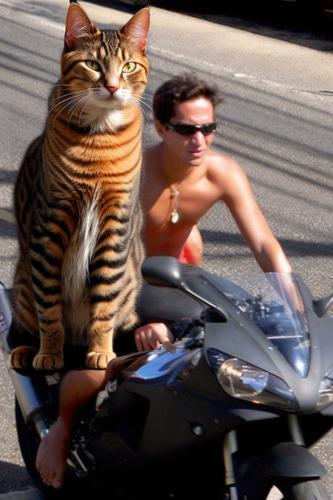cat: (11, 1, 149, 370)
motorbike: (1, 236, 333, 500)
person: (34, 75, 305, 485)
person/foot: (35, 419, 72, 487)
person/hand: (132, 322, 175, 354)
person/head: (151, 75, 220, 165)
